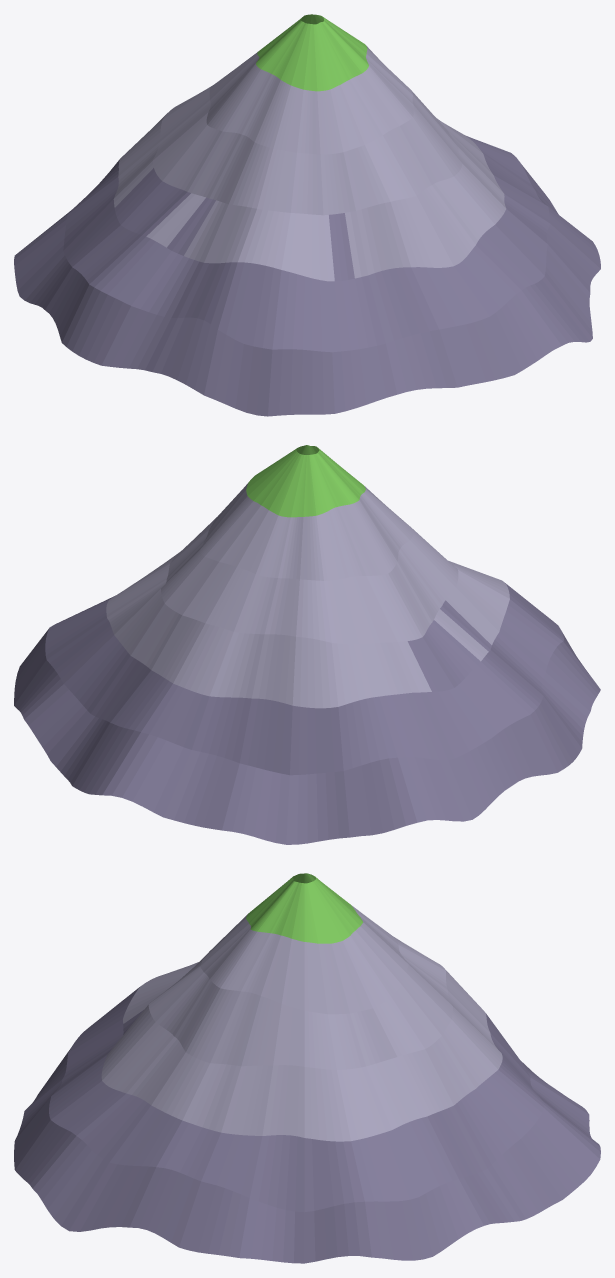
Rendered from island_base.glb.
The picture shows the model from 3 angles, top to bottom: view 1: azimuth 30°, elevation 25°; view 2: azimuth 150°, elevation 25°; view 3: azimuth 270°, elevation 25°; orthographic projection.
Parts seen in each view (by area): view 1: island_base; view 2: island_base; view 3: island_base.
Boxes of the visible parts, x1,y1,x2,y2 form: island_base: (14, 14, 600, 416); island_base: (14, 445, 600, 844); island_base: (14, 873, 600, 1263).
Bounding box in the file's own units: 2.02 × 1.05 × 2.03.
